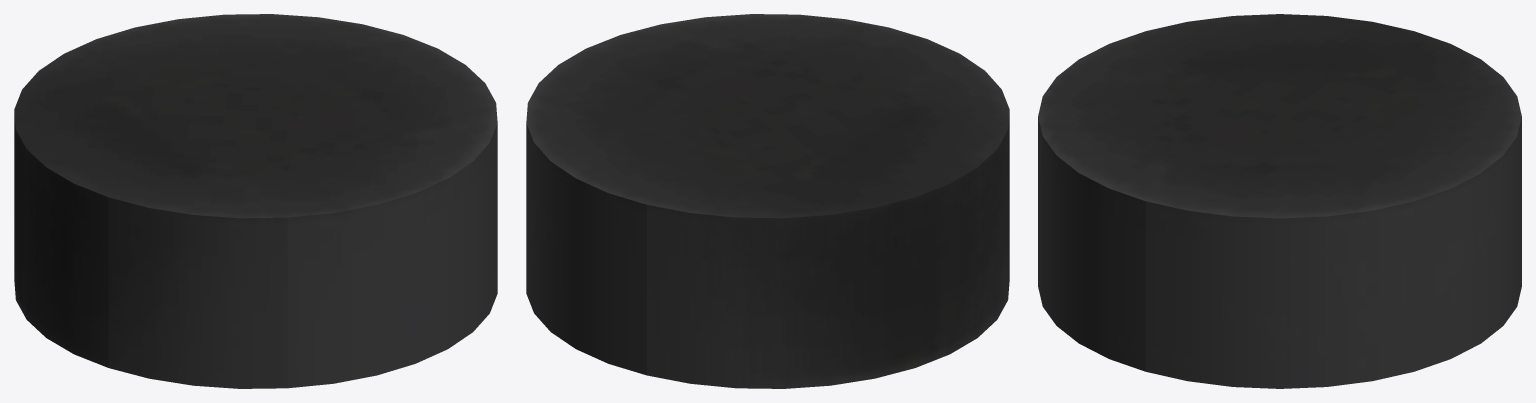
Rendered from wheel_1__wheel_body.glb.
3 renders of one model, left to right at view 1: azimuth 30°, elevation 25°; view 2: azimuth 150°, elevation 25°; view 3: azimuth 270°, elevation 25°, orthographic.
Parts seen in each view (by area): view 1: world; view 2: world; view 3: world.
Part boxes in pixels (left/top/right/bottom): world: left=14, top=14, right=497, bottom=388; world: left=526, top=14, right=1009, bottom=388; world: left=1038, top=14, right=1521, bottom=388.
Bounding box in the file's own units: 0.09 × 0.035 × 0.09.
1 material, 1 textured.
